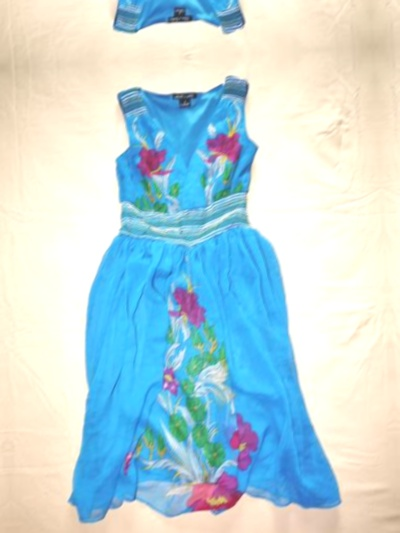Dress: (41, 59, 356, 533), (13, 0, 328, 55), (391, 0, 400, 33)
